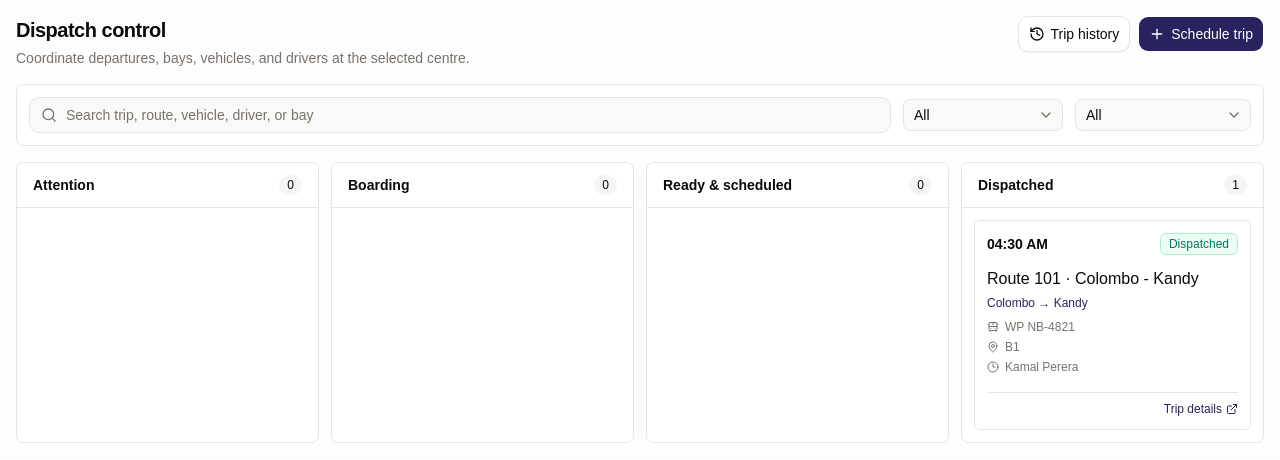
Test case: DispatchPage (dispatch board) › does not offer Flag delay or boarding actions that the trip's state forbids
Click the text "Route 101 · Colombo - Kandy". click: click(1093, 278)
box: [987,270,1199,287]
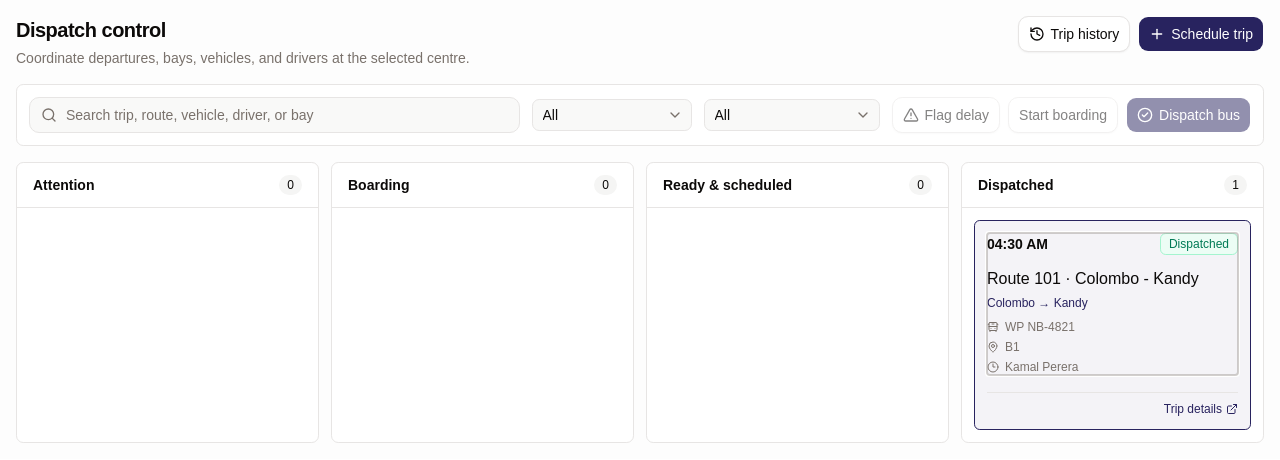
Expected: the button "Flag delay" is disabled, [892,97,1000,133]
Expected: the button "Start boarding" is disabled, [1008,97,1118,133]
